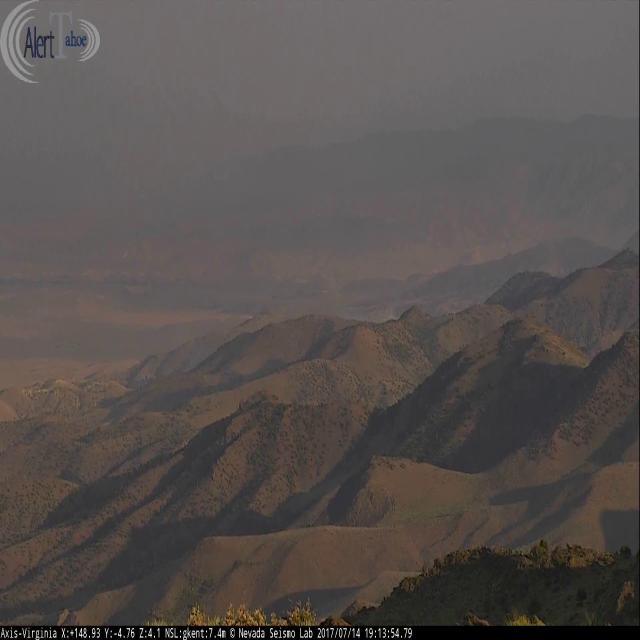smoke: (345, 304, 400, 324)
